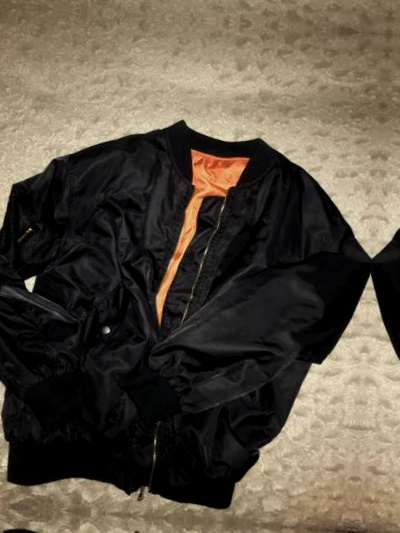Blazer: (0, 105, 375, 519), (359, 135, 400, 533), (0, 517, 344, 533)
